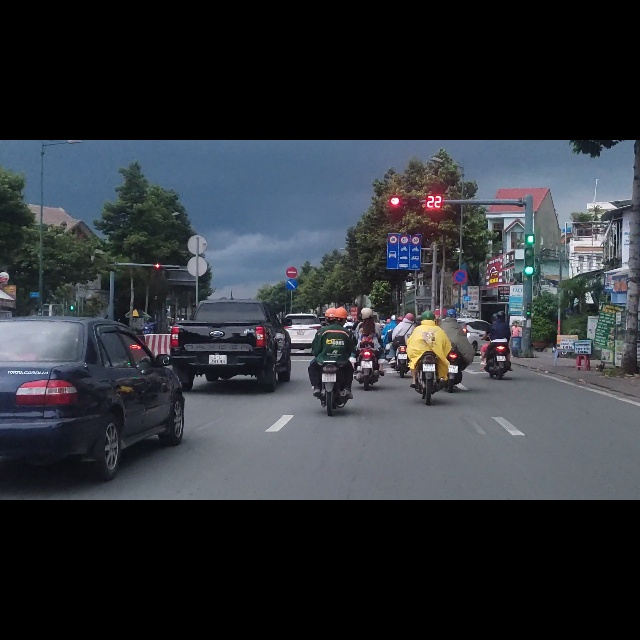bien_chi_dan: (387, 184, 420, 231), (452, 229, 468, 257), (286, 225, 298, 245), (287, 247, 297, 266), (400, 169, 409, 184), (411, 169, 420, 184), (389, 169, 397, 183)
